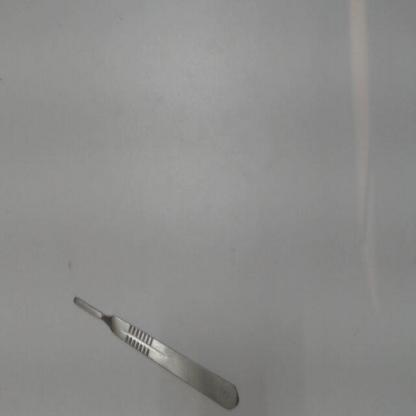No.4 BP Handle: (68, 290, 243, 414)
